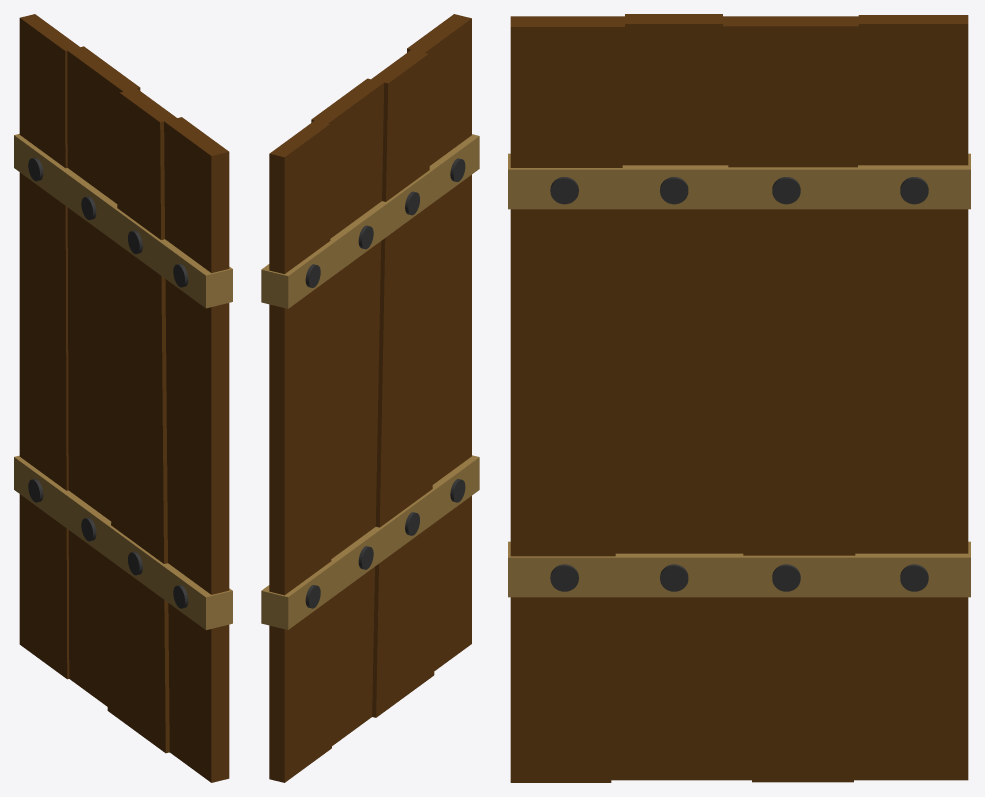
File: houl_door.fbx
The picture shows the model from 3 angles, left to right: view 1: azimuth 30°, elevation 25°; view 2: azimuth 150°, elevation 25°; view 3: azimuth 270°, elevation 25°; orthographic projection. The views are drawn at different scales.
Visible parts, largest first — view 1: Cube.008; view 2: Cube.008; view 3: Cube.008.
Part boxes in pixels (<box>): Cube.008: <box>14,14,232,782</box>; Cube.008: <box>261,14,479,782</box>; Cube.008: <box>508,14,970,782</box>.
Bounding box in the file's own units: 75.92 × 1375 × 763.
